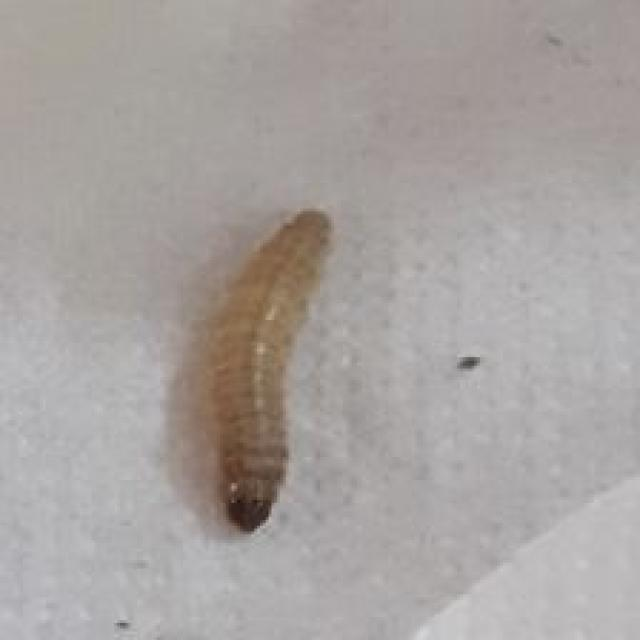white mucus: (163, 182, 380, 548)
